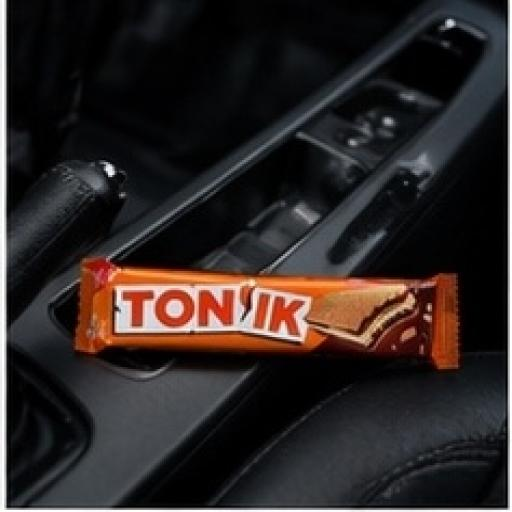tonik: (72, 214, 484, 424)
